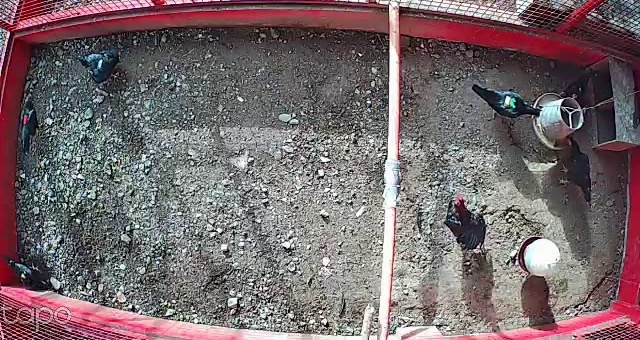Chicken: (468, 80, 543, 128), (0, 249, 62, 303), (553, 133, 599, 204), (71, 50, 126, 88), (558, 66, 598, 105), (18, 92, 42, 152)
Rooster: (444, 195, 494, 270)
Saddle_Color_Red: (23, 115, 27, 124)
Saddle_Color_YellowGreen: (504, 94, 516, 108)
